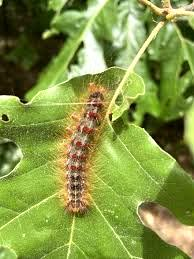Caterpillar: (54, 83, 117, 217)
